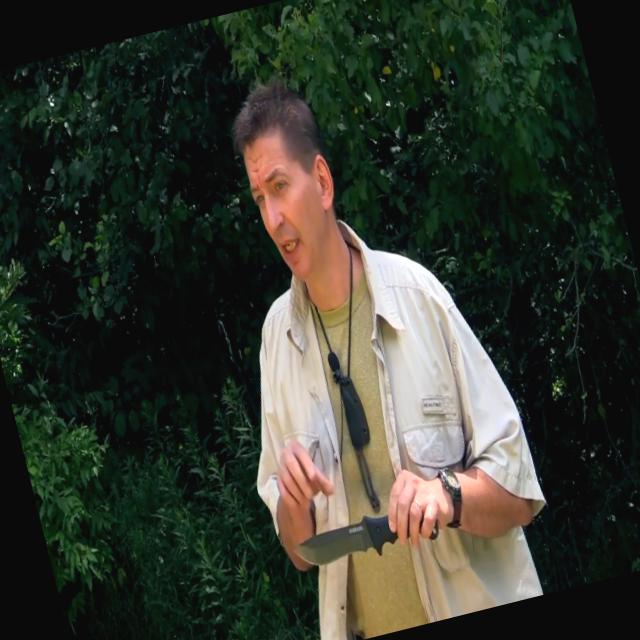knife: (277, 460, 445, 584)
